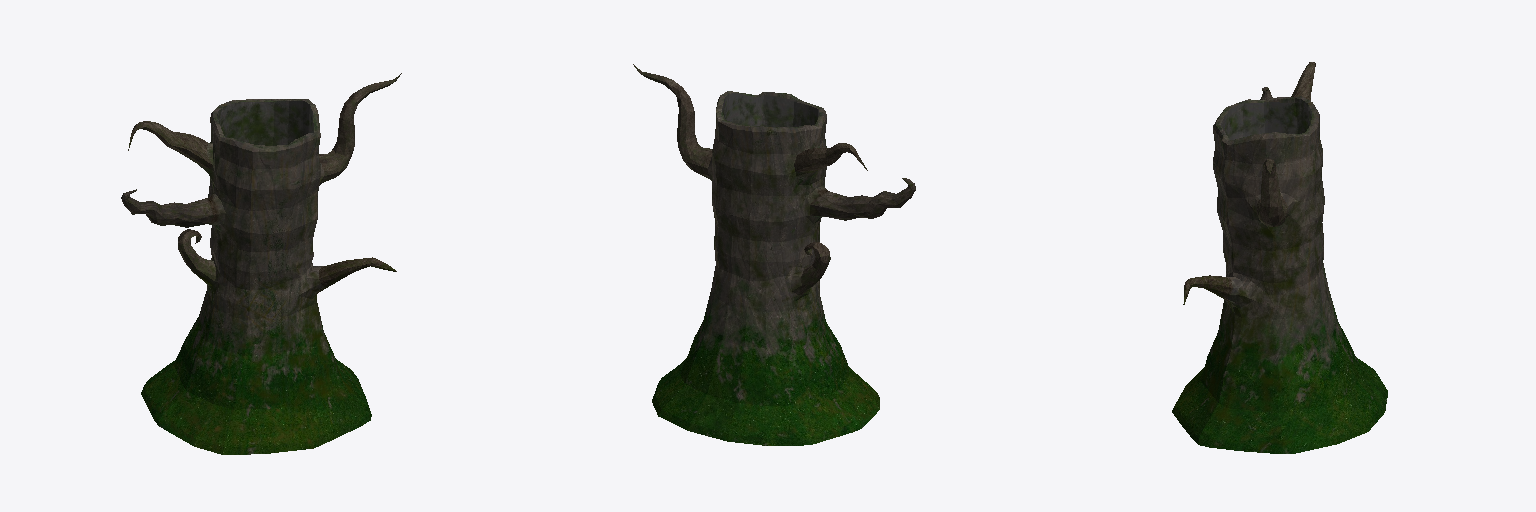
3 renders of one model, left to right at view 1: azimuth 30°, elevation 25°; view 2: azimuth 150°, elevation 25°; view 3: azimuth 270°, elevation 25°, orthographic.
Parts seen in each view (by area): view 1: Arbol_frontal_oficial; view 2: Arbol_frontal_oficial; view 3: Arbol_frontal_oficial.
Boxes of the visible parts, x1=… form: Arbol_frontal_oficial: x1=121, y1=73, x2=401, y2=454; Arbol_frontal_oficial: x1=633, y1=64, x2=915, y2=445; Arbol_frontal_oficial: x1=1172, y1=62, x2=1387, y2=453.
Size of the model in its own units: 1.65 by 1.71 by 1.09.
Materials: 1 (1 with a texture image).